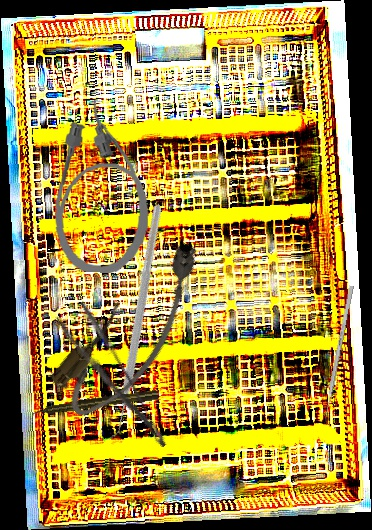Cannula: (42, 230, 229, 430), (50, 96, 157, 276)
Chopper: (27, 204, 234, 442)
Dressing Forceps: (54, 299, 170, 462)
Handpiece: (31, 388, 159, 419)
Pusher: (321, 285, 355, 426)
